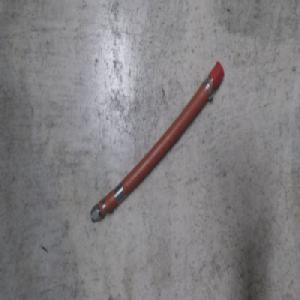Hose: (88, 58, 227, 225)
